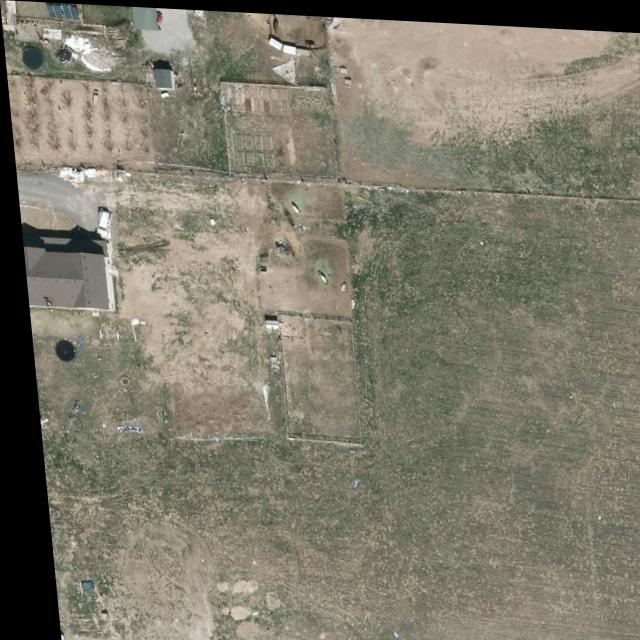vehicle: (89, 208, 110, 240), (135, 6, 164, 22)
